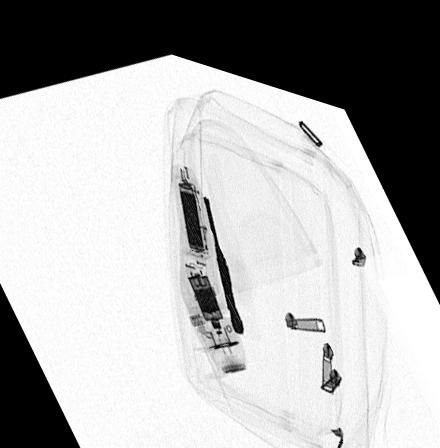Gun: (200, 180, 245, 319)
